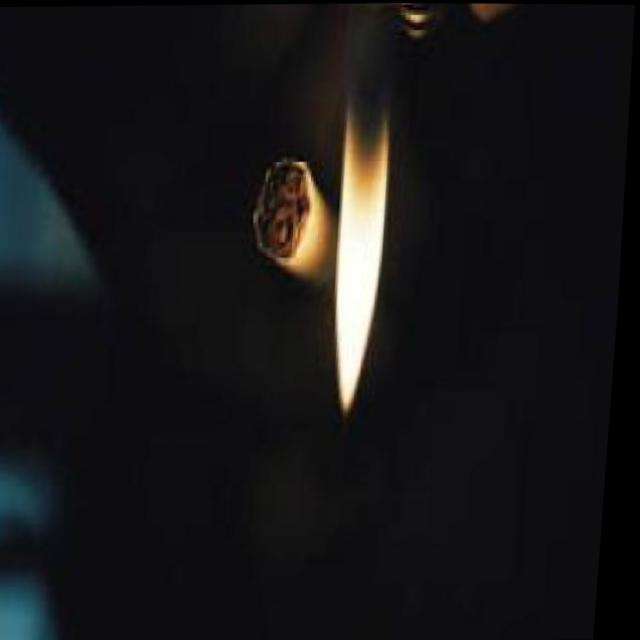Fire: (325, 2, 402, 409)
